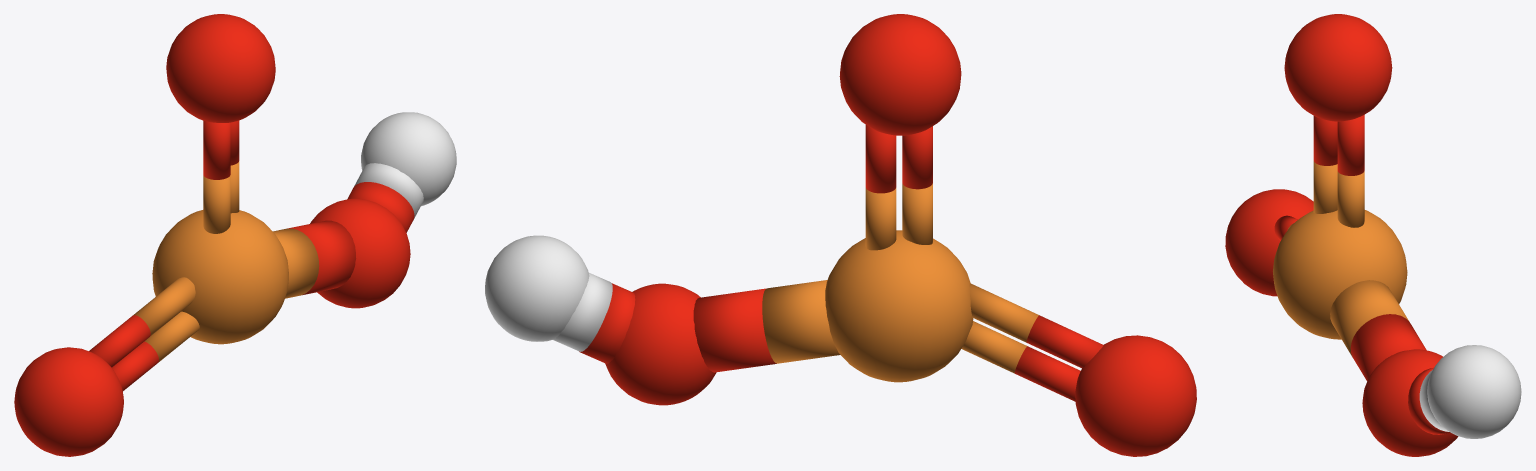
File: Метафосфорная.gltf
3 views of the same model, side by side, from view 1: azimuth 30°, elevation 25°; view 2: azimuth 150°, elevation 25°; view 3: azimuth 270°, elevation 25° (orthographic). The views are drawn at different scales.
Parts seen in each view (by area): view 1: Cylinder.002; view 2: Cylinder.002; view 3: Cylinder.002.
Boxes of the visible parts, x1,y1,x2,y2 form: Cylinder.002: [14, 14, 456, 456]; Cylinder.002: [485, 14, 1196, 456]; Cylinder.002: [1225, 14, 1521, 456].
Size of the model in its own units: 8.89 by 5.89 by 4.4.
